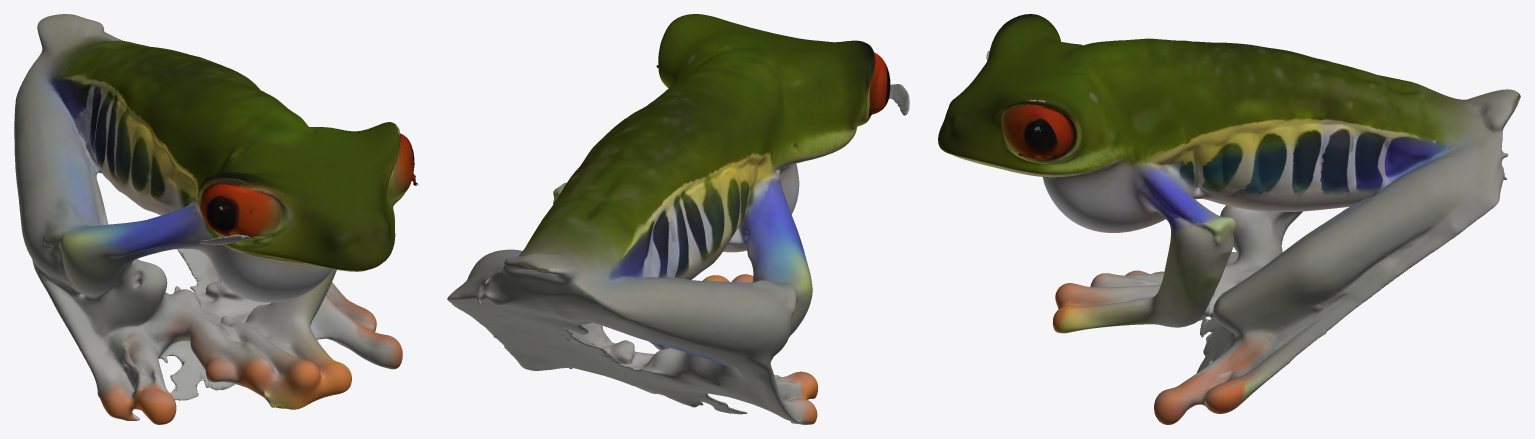
The model's file is agalychnis-callidryas.glb.
3 renders of one model, left to right at view 1: azimuth 30°, elevation 25°; view 2: azimuth 150°, elevation 25°; view 3: azimuth 270°, elevation 25°, orthographic. The views are drawn at different scales.
Parts seen in each view (by area): view 1: tripo_node_3925411c-321e-43cc-92ec-f09df7fa1571; view 2: tripo_node_3925411c-321e-43cc-92ec-f09df7fa1571; view 3: tripo_node_3925411c-321e-43cc-92ec-f09df7fa1571.
Part boxes in pixels (x1,y1,x2,y2): tripo_node_3925411c-321e-43cc-92ec-f09df7fa1571: [14, 14, 418, 424]; tripo_node_3925411c-321e-43cc-92ec-f09df7fa1571: [447, 14, 909, 424]; tripo_node_3925411c-321e-43cc-92ec-f09df7fa1571: [938, 14, 1520, 424].
Bounding box in the file's own units: 0.5864 × 0.5783 × 0.9999.
Materials: 1 (1 with a texture image).
